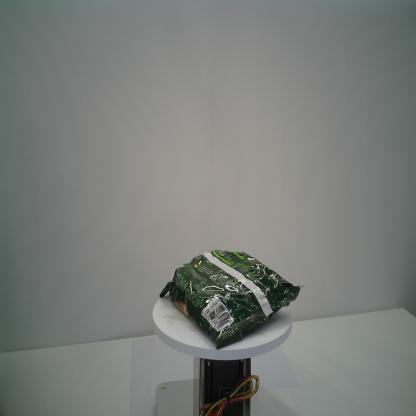Instant Noodles: (158, 247, 304, 350)
